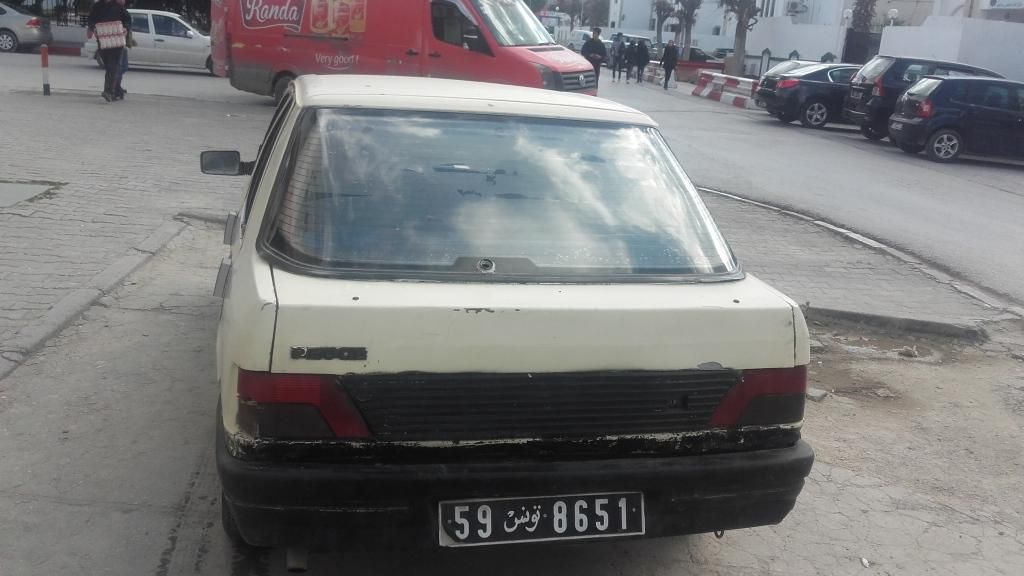LP: (436, 490, 648, 548)
